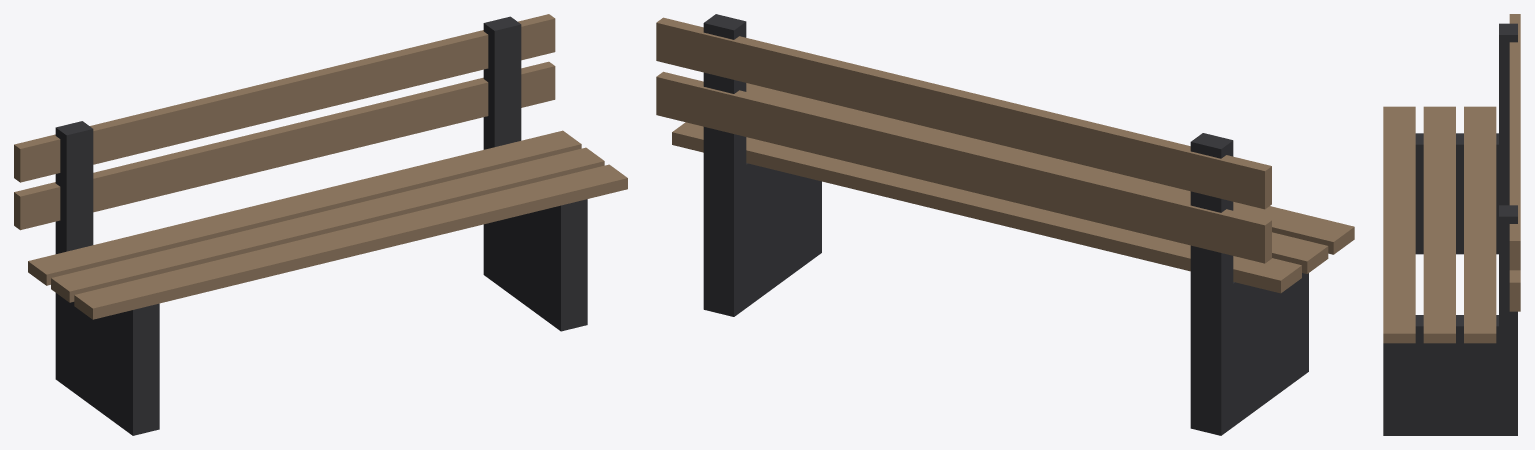
Rendered from bench.glb.
3 renders of one model, left to right at view 1: azimuth 30°, elevation 25°; view 2: azimuth 150°, elevation 25°; view 3: azimuth 270°, elevation 25°, orthographic. The views are drawn at different scales.
Visible parts, largest first — view 1: bench; view 2: bench; view 3: bench.
Boxes of the visible parts, x1,y1,x2,y2 form: bench: (14,14,627,435); bench: (656,14,1354,435); bench: (1383,14,1520,435).
Size of the model in its own units: 2 by 0.9 by 0.51.
